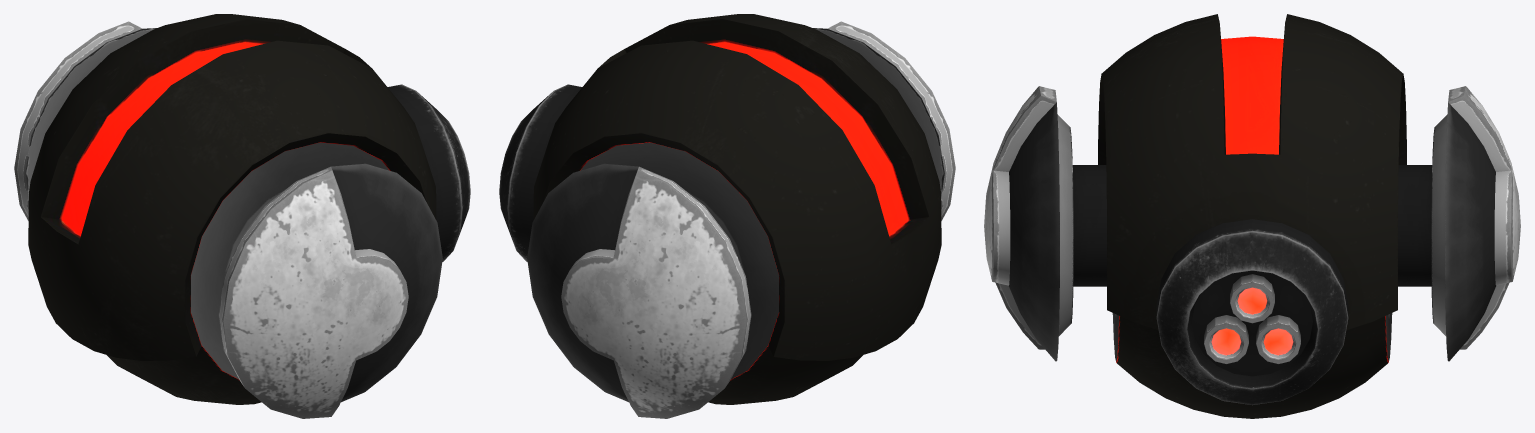
Rendered from Drone1.fbx.
3 views of the same model, side by side, from view 1: azimuth 30°, elevation 25°; view 2: azimuth 150°, elevation 25°; view 3: azimuth 270°, elevation 25° (orthographic). The views are drawn at different scales.
Visible parts, largest first — view 1: Drone; view 2: Drone; view 3: Drone.
Boxes of the visible parts, x1,y1,x2,y2 form: Drone: (14, 14, 470, 418); Drone: (499, 14, 955, 418); Drone: (984, 14, 1520, 418).
Bounding box in the file's own units: 80.59 × 70.24 × 94.03.
1 material, 1 textured.
